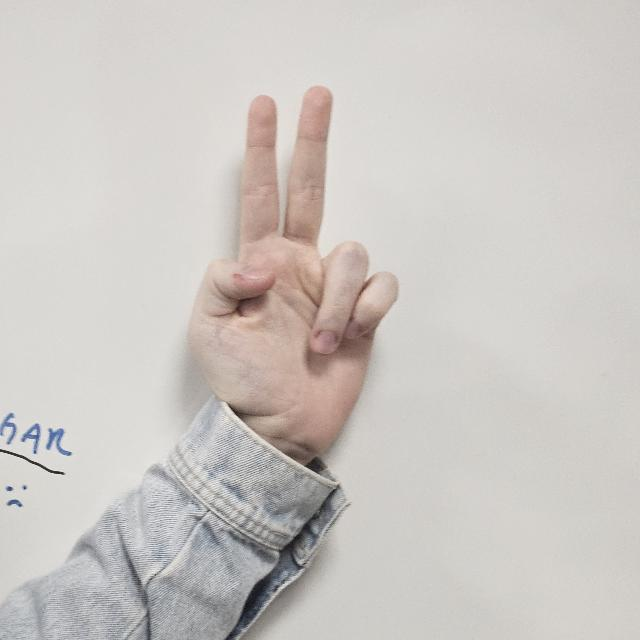Triangulo: (188, 85, 406, 467)
